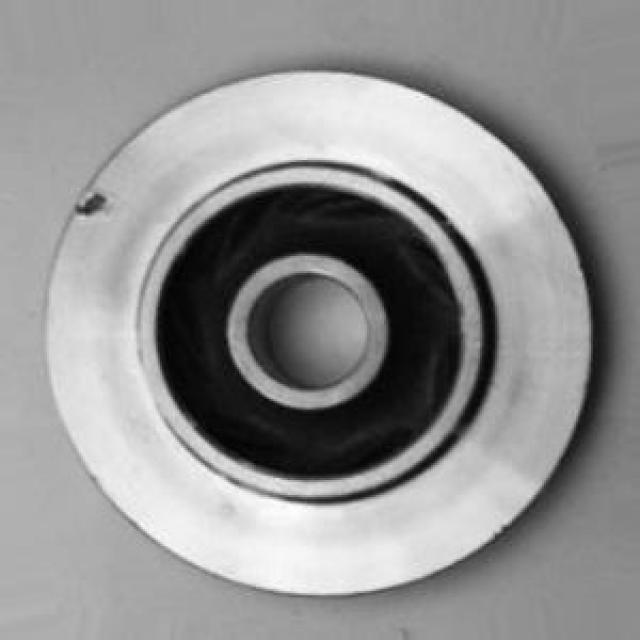Defect: (74, 190, 114, 226)
